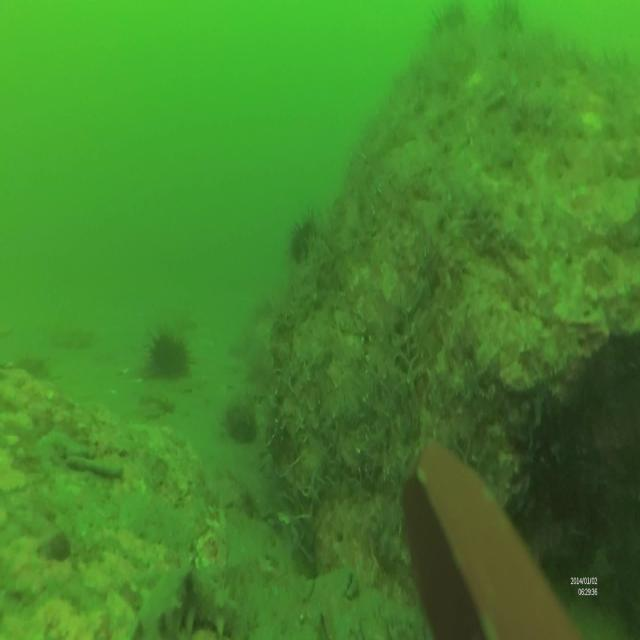echinus: (143, 327, 194, 381), (288, 207, 320, 264), (426, 0, 470, 40), (488, 0, 525, 30)
holothurian: (134, 564, 238, 640)
